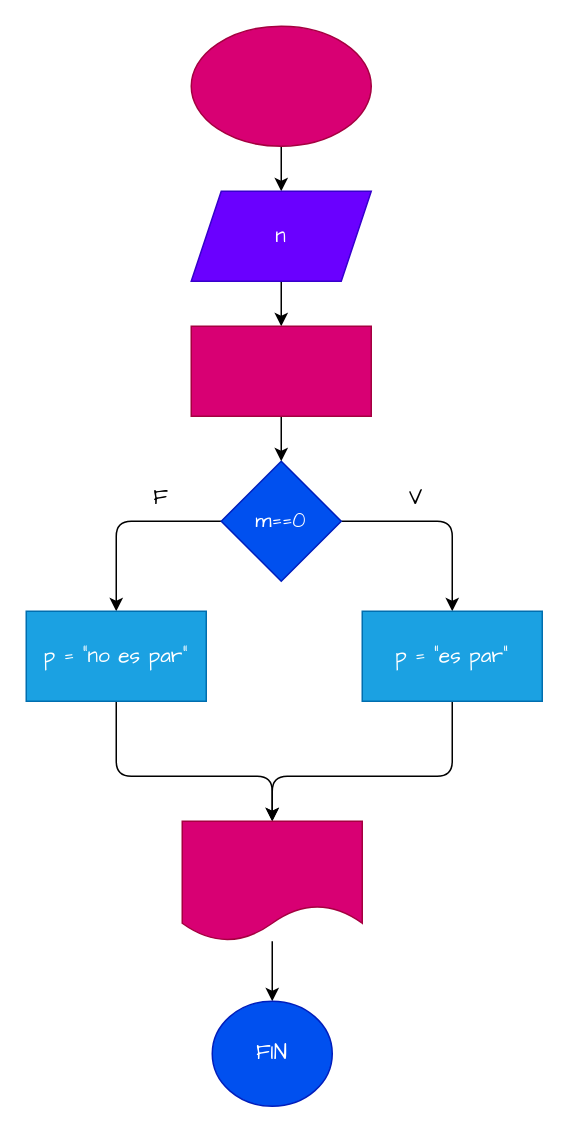
Some shapes in this 569 by 1133 pixel diagram are drawn without their labels. The centre of each missing label's shape, as x and y in pixels:
Inicio: the point at 280,85
m = n%2: the point at 280,370
m,p: the point at 271,880
